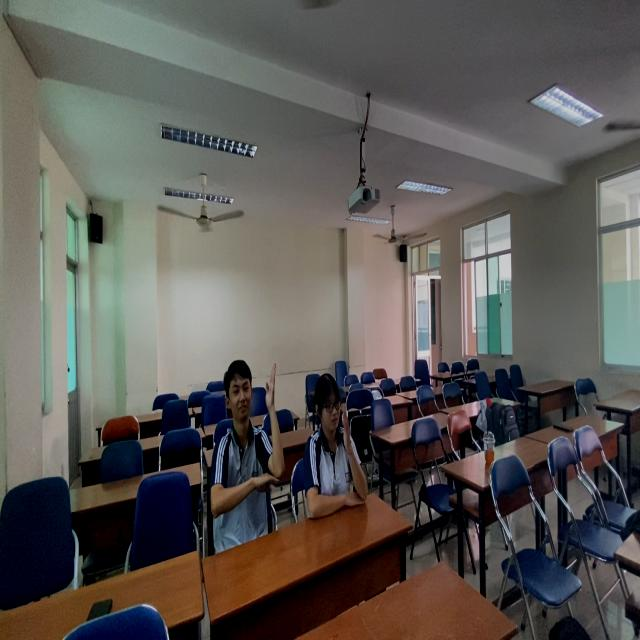raise_hand: (213, 348, 289, 548), (308, 365, 375, 517)
